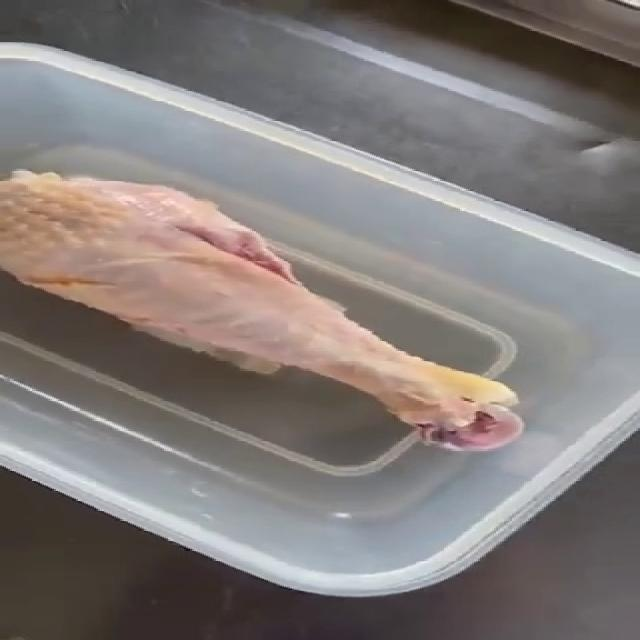chicken: (0, 161, 536, 458)
